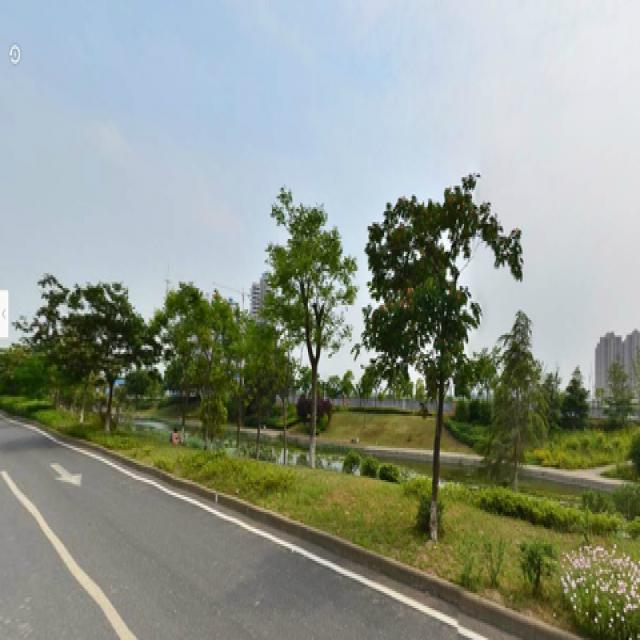albi: (372, 177, 511, 538)
